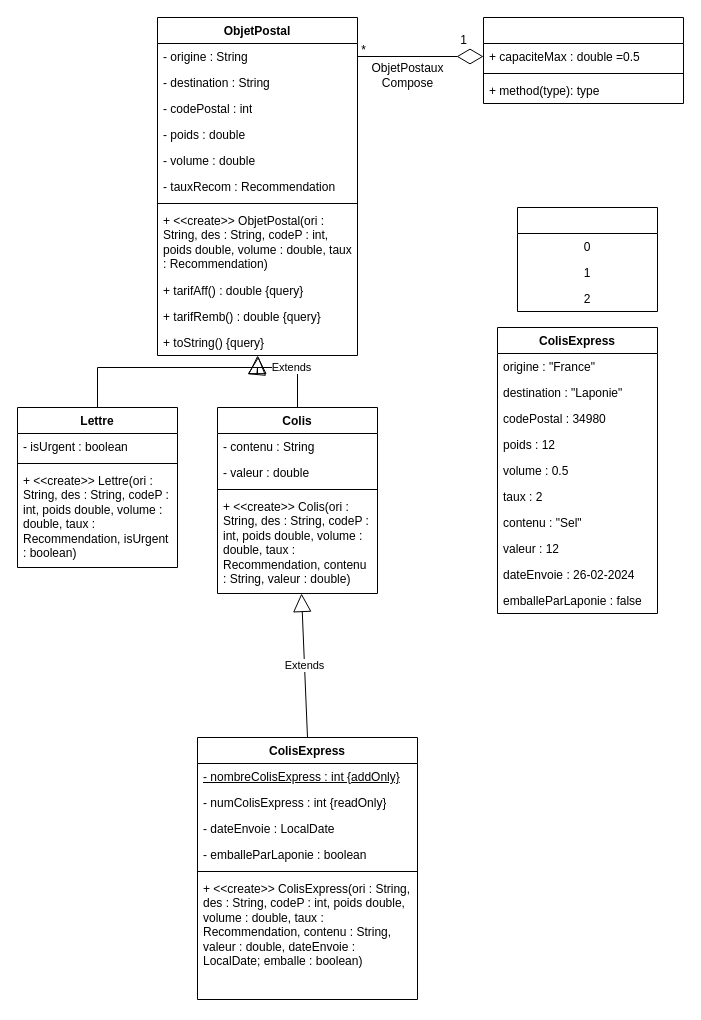
Image size: 701x1020. Some labels were removed from this diagram. Here are the shapes that lost their labels. From the top down, the box of each, then its label:
(482, 16, 684, 104): SacPostal
(516, 206, 658, 312): Recommendation
